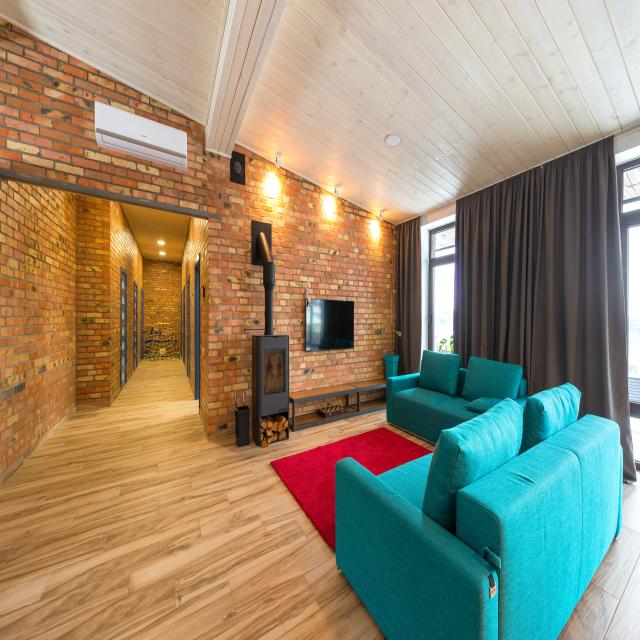floor: (0, 353, 436, 640), (555, 469, 640, 640)
wall: (0, 18, 398, 432), (0, 177, 76, 476), (76, 195, 110, 405), (110, 201, 144, 401), (95, 101, 187, 173), (181, 217, 209, 432), (143, 258, 181, 359), (305, 282, 354, 352), (420, 227, 429, 364), (420, 204, 456, 227), (613, 126, 640, 155)
